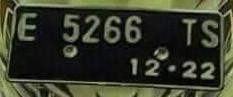2: (79, 14, 101, 44)
5: (59, 12, 82, 43)
6: (102, 15, 124, 46), (124, 14, 145, 44)
E: (20, 11, 38, 44)
S: (196, 18, 220, 48)
T: (175, 16, 201, 48)
